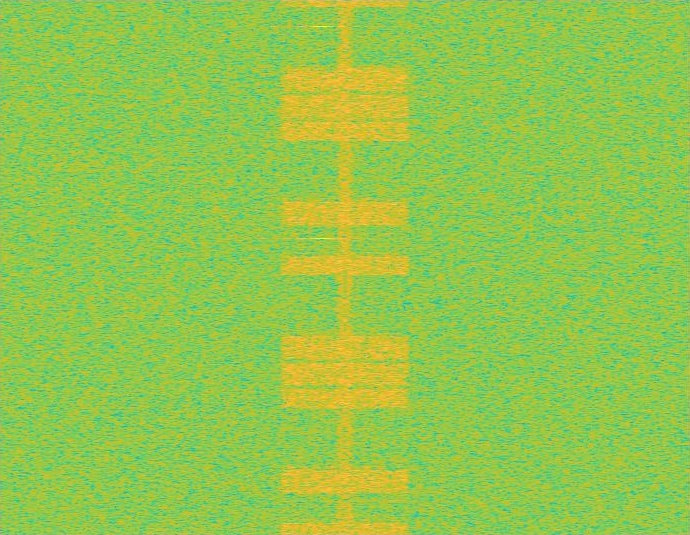DSSS: (336, 0, 354, 534)
LTE: (276, 0, 414, 534)
Radar: (315, 0, 329, 534)
